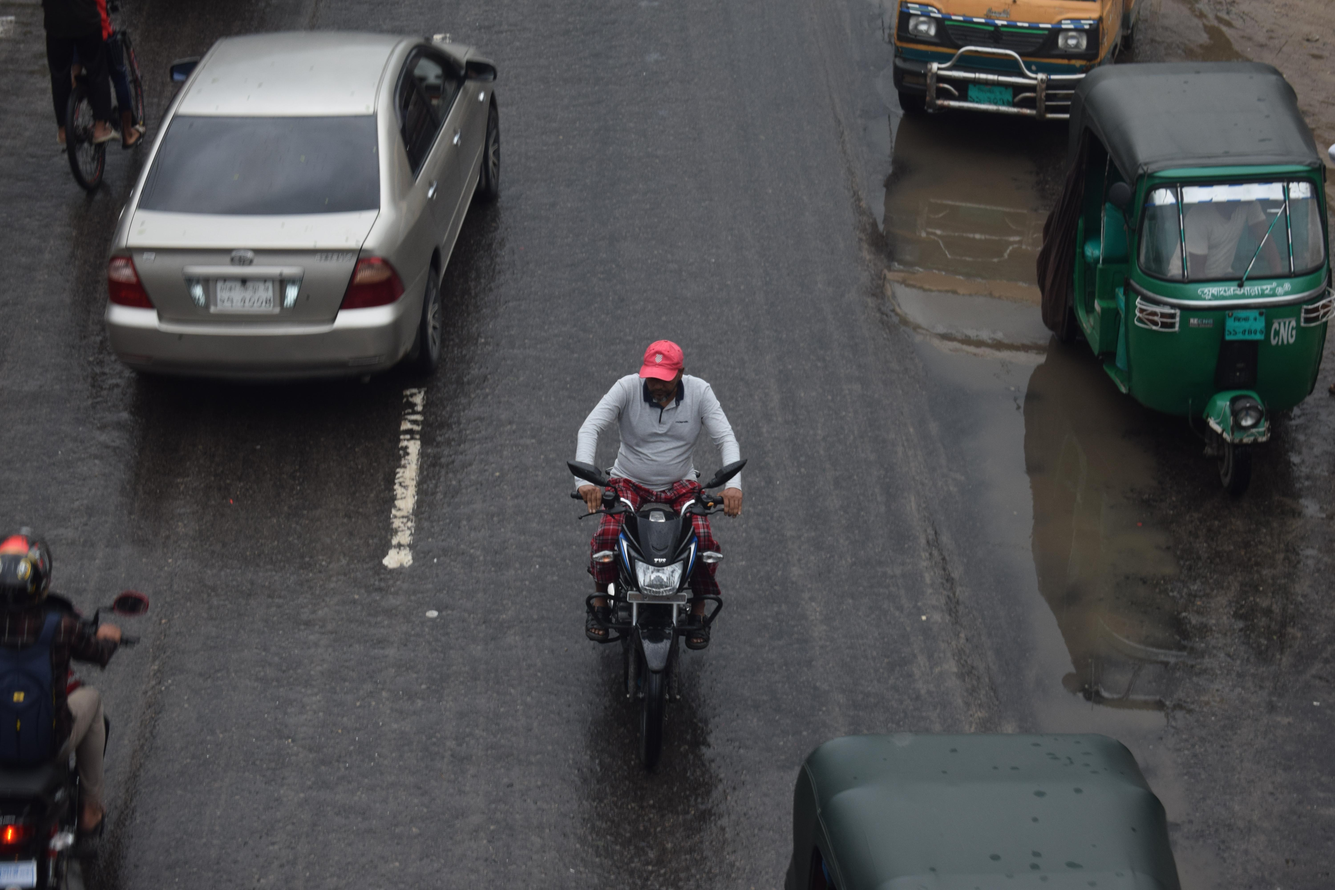Bike: (494, 289, 804, 800), (0, 474, 178, 890)
Car: (59, 11, 542, 413)
